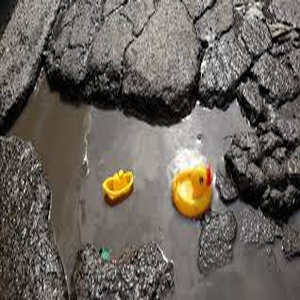pothole: (1, 56, 300, 300)
